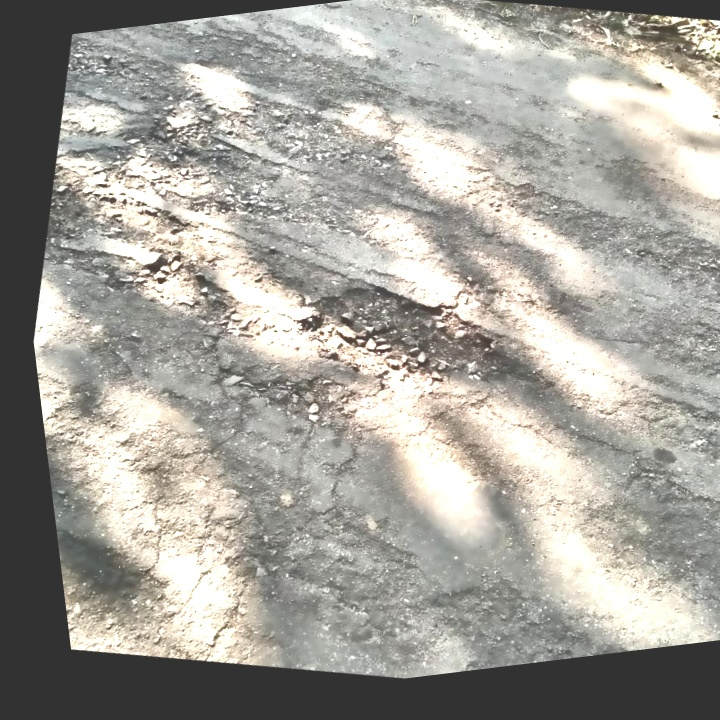pothole: (282, 250, 527, 417)
